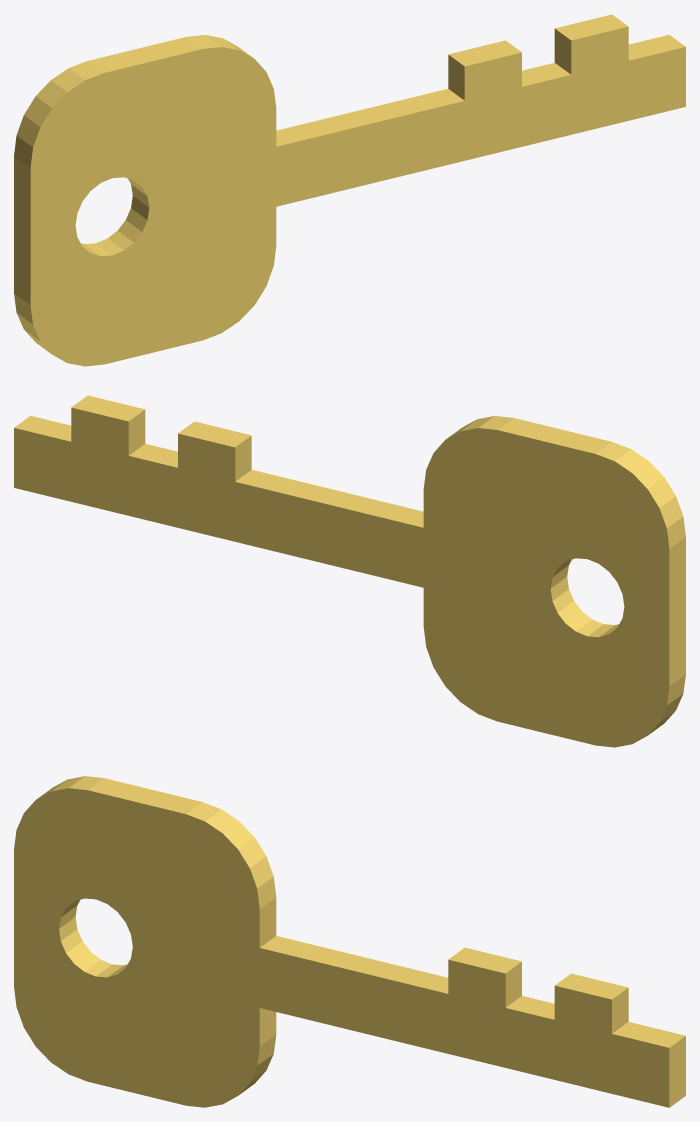
The model's file is modern_key.glb.
3 renders of one model, top to bottom at view 1: azimuth 30°, elevation 25°; view 2: azimuth 150°, elevation 25°; view 3: azimuth 330°, elevation 25°, orthographic.
Parts seen in each view (by area): view 1: modern_key; view 2: modern_key; view 3: modern_key.
Boxes of the visible parts, <box> form: modern_key: <box>14,14,685,366</box>; modern_key: <box>14,395,685,747</box>; modern_key: <box>14,776,685,1107</box>.
Size of the model in its own units: 0.8 by 0.34 by 0.035.
